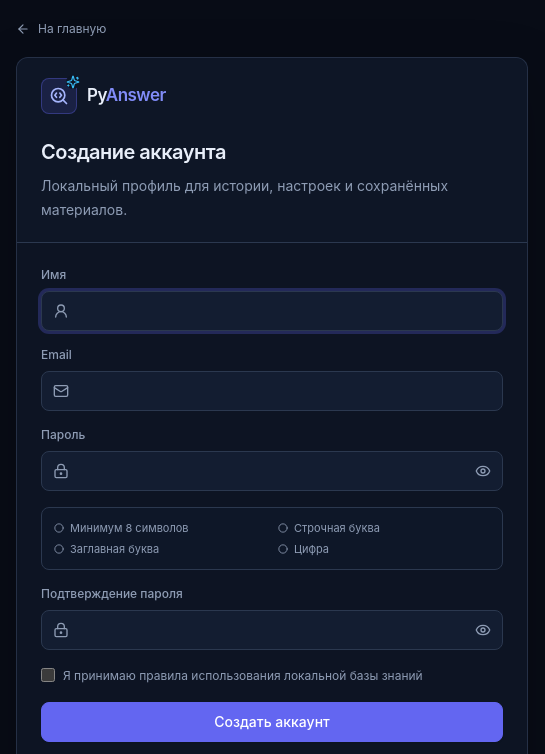
Test case: RegisterPage › проверяет обязательные поля
Click the button "Создать аккаунт".
click(272, 722)  # box [41, 702, 503, 742]
(page scrolled)
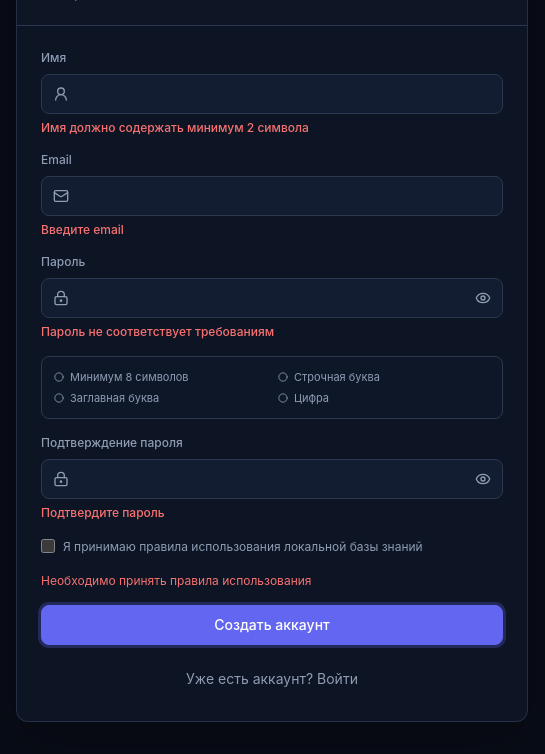
expect the text "Имя должно содержать минимум 2 символа" is shown: met, box [41, 120, 309, 135]
expect the text "Введите email" is shown: met, box [41, 222, 124, 237]
expect the text "Подтвердите пароль" is shown: met, box [41, 505, 165, 520]
